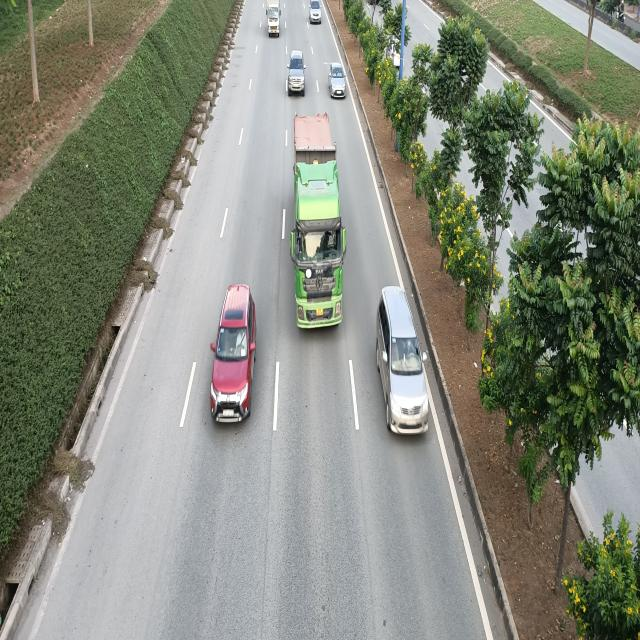car: (376, 286, 430, 434), (209, 284, 256, 422), (286, 50, 306, 95), (329, 63, 348, 99)
container: (290, 111, 345, 328)
truck: (266, 0, 282, 37)
